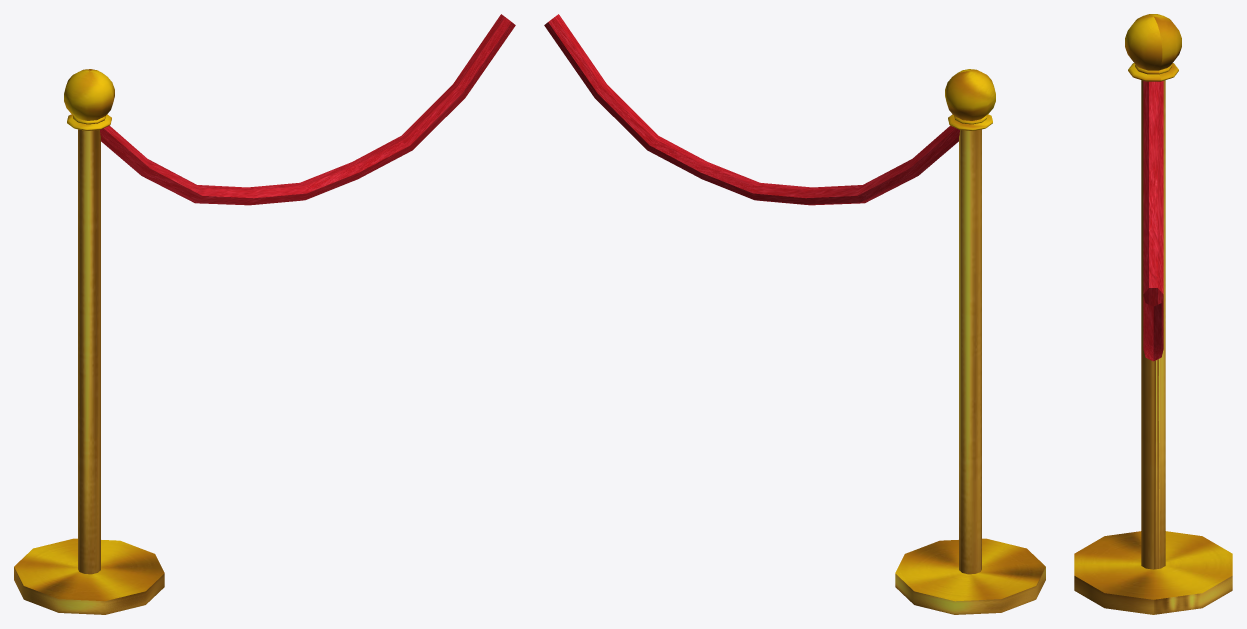
Rendered from poteau.fbx.
3 views of the same model, side by side, from view 1: azimuth 30°, elevation 25°; view 2: azimuth 150°, elevation 25°; view 3: azimuth 270°, elevation 25° (orthographic). The views are drawn at different scales.
Visible parts, largest first — view 1: poteau; view 2: poteau; view 3: poteau.
Part boxes in pixels (x1,y1,x2,y2): poteau: (14, 14, 515, 614); poteau: (544, 14, 1045, 614); poteau: (1074, 14, 1232, 614).
Size of the model in its own units: 10.66 by 10.63 by 2.71.
